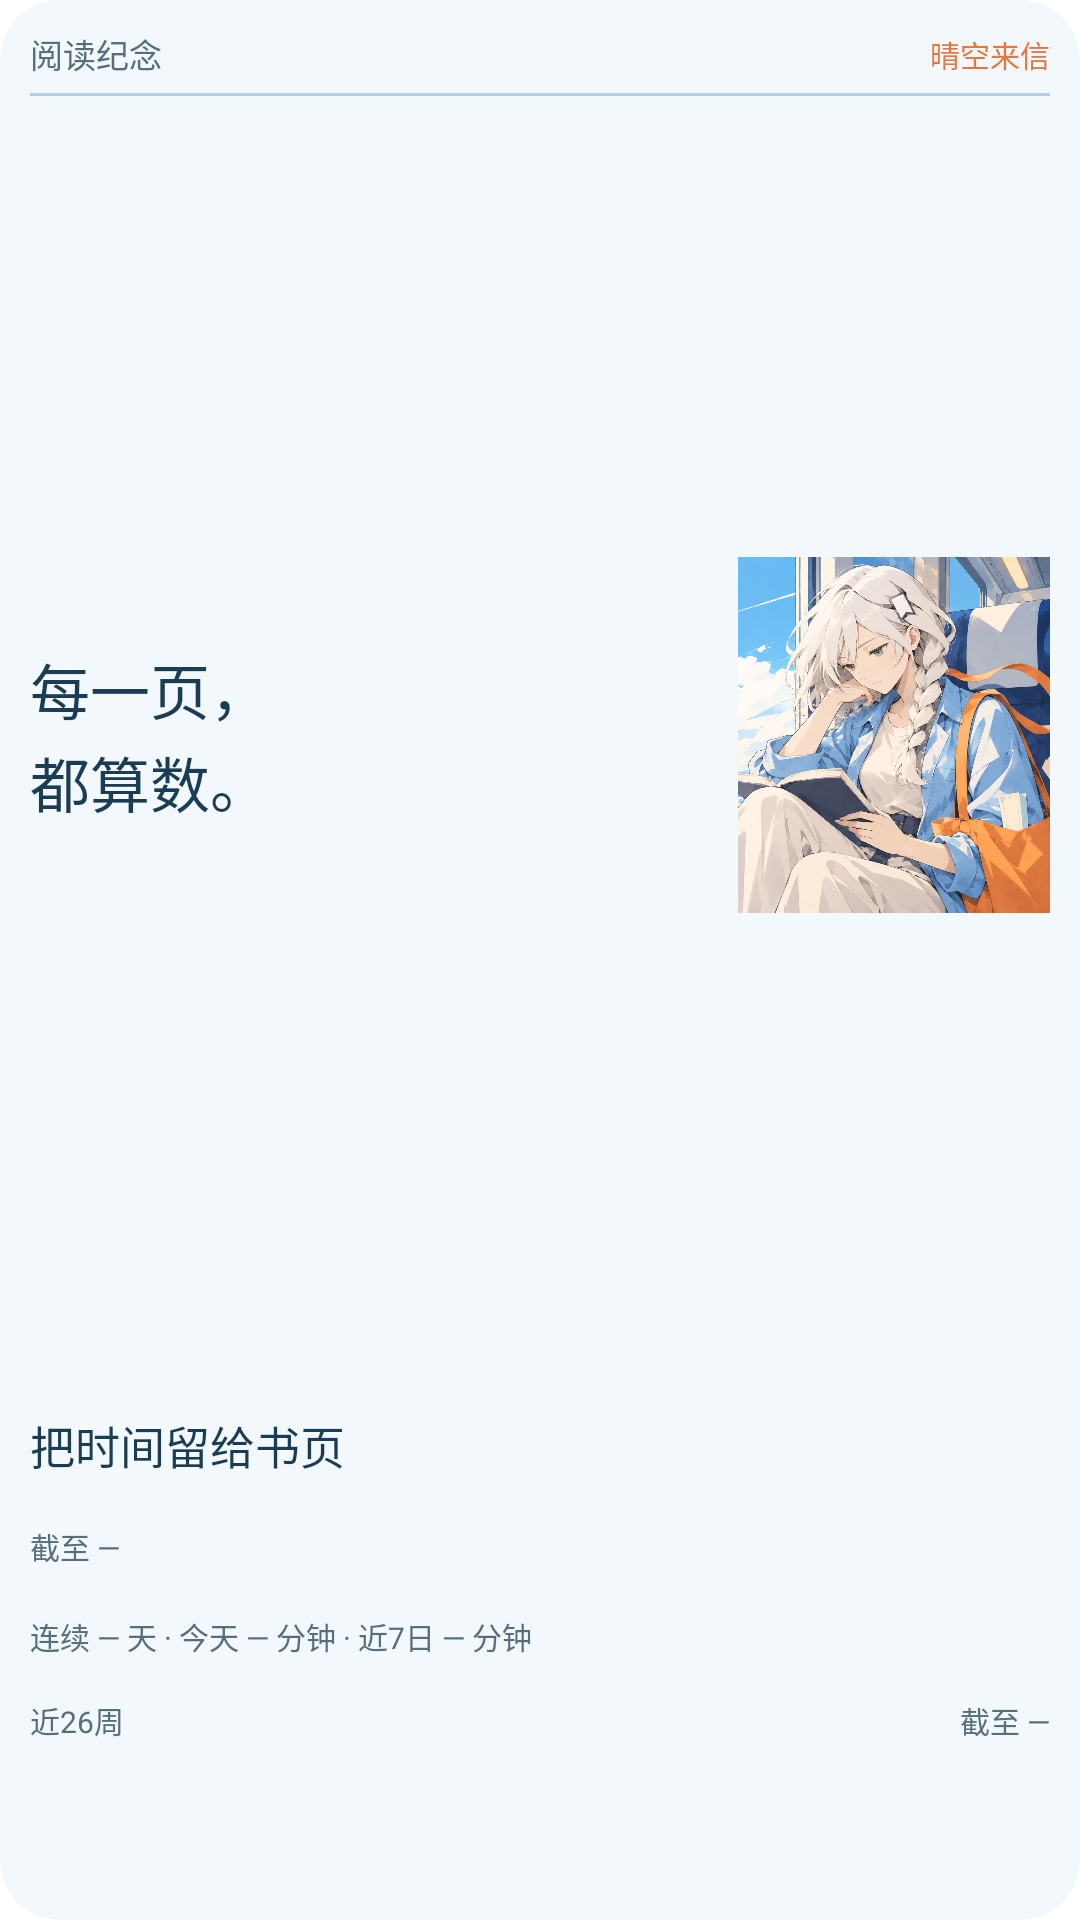

Icons on this 1080×1920 Android screen, each with the point to tap as point (x, y):
reading widget art festival: point (894, 735)
